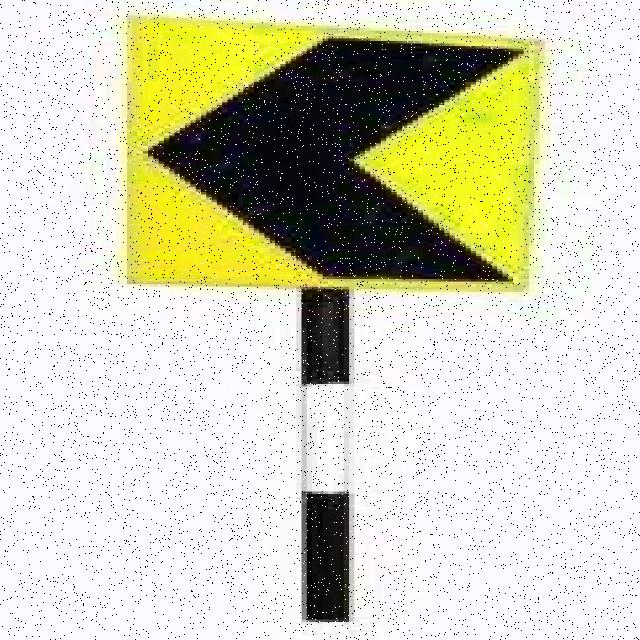chevron_left: (126, 14, 538, 290)
